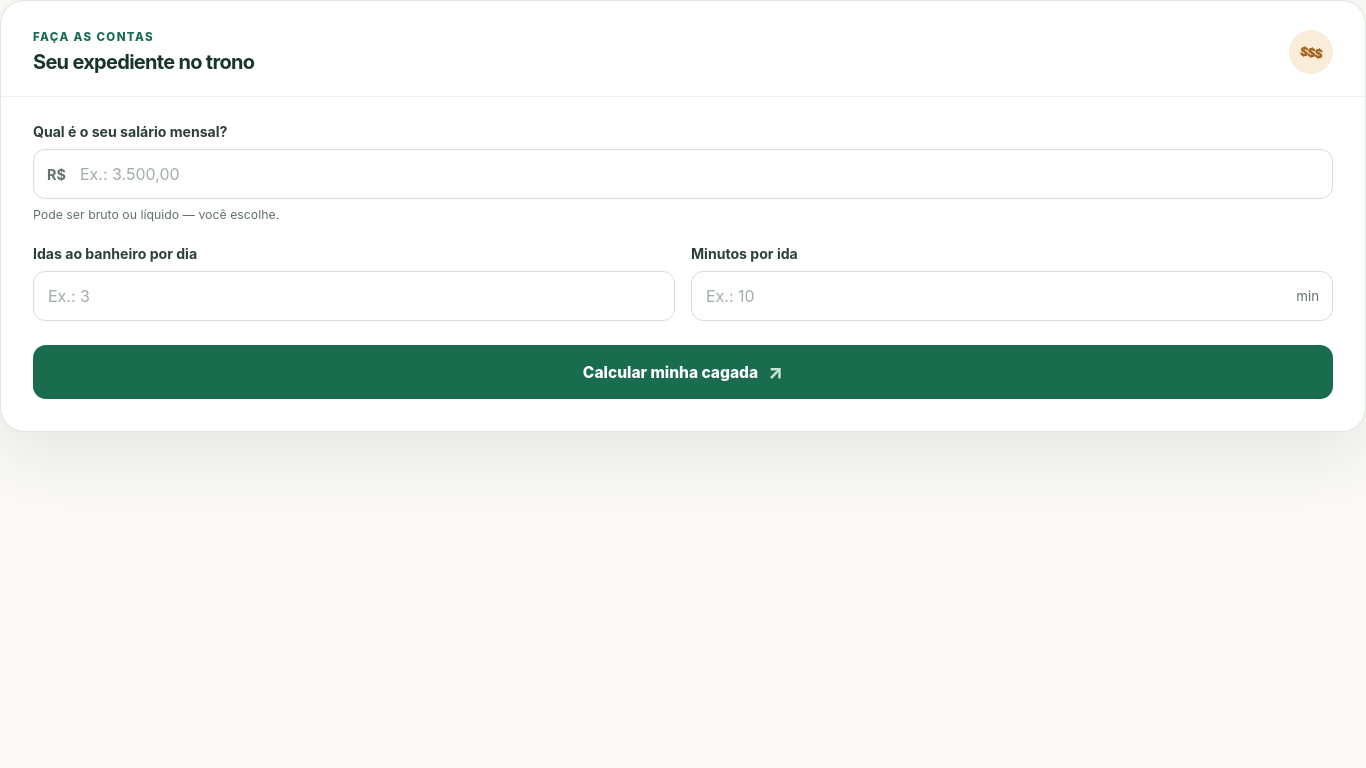
Test: Calculator › rejects fractional visits and accepts zero values
Type "0" into the number field labelled "Qual é o seu salário mensal?" at x=683, y=174, box [33,149,1333,199]
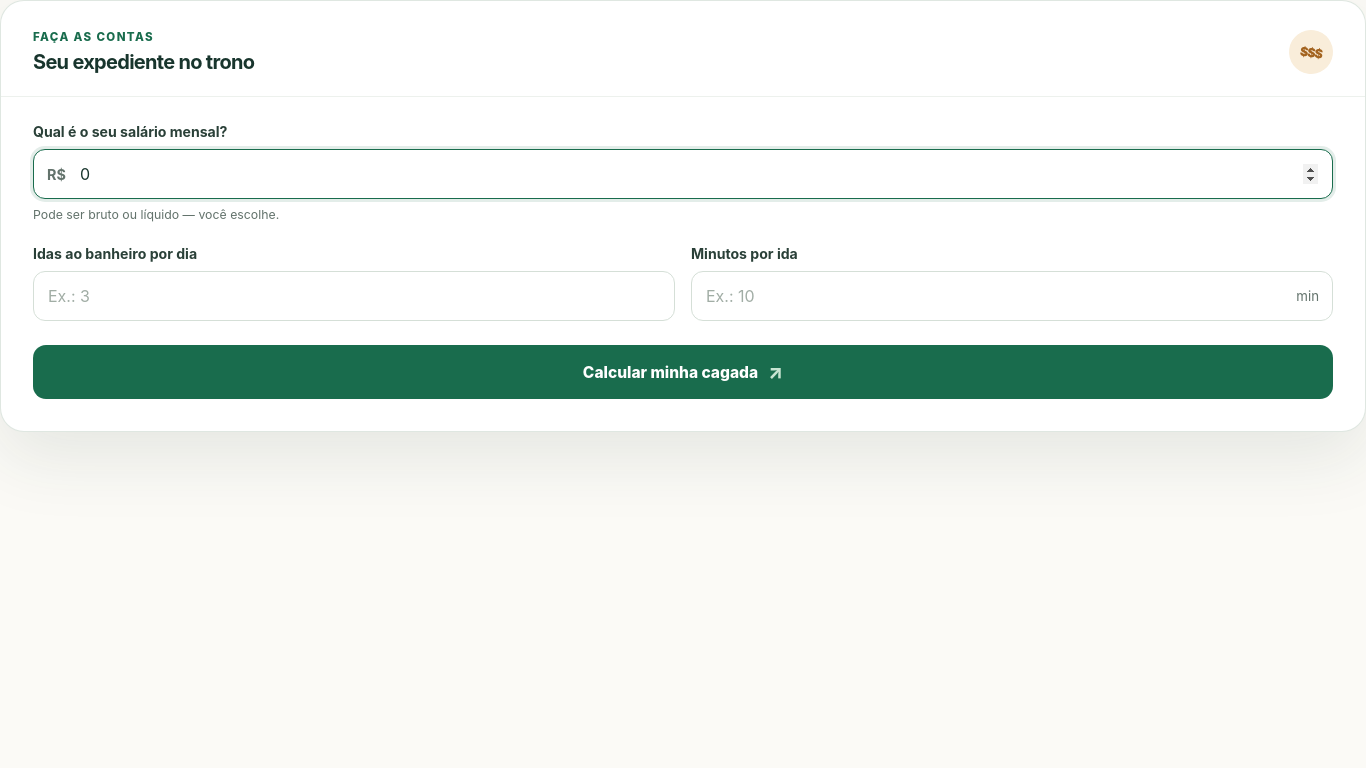
Type "1.5" into the number field labelled "Idas ao banheiro por dia" at x=354, y=296, box [33,271,675,321]
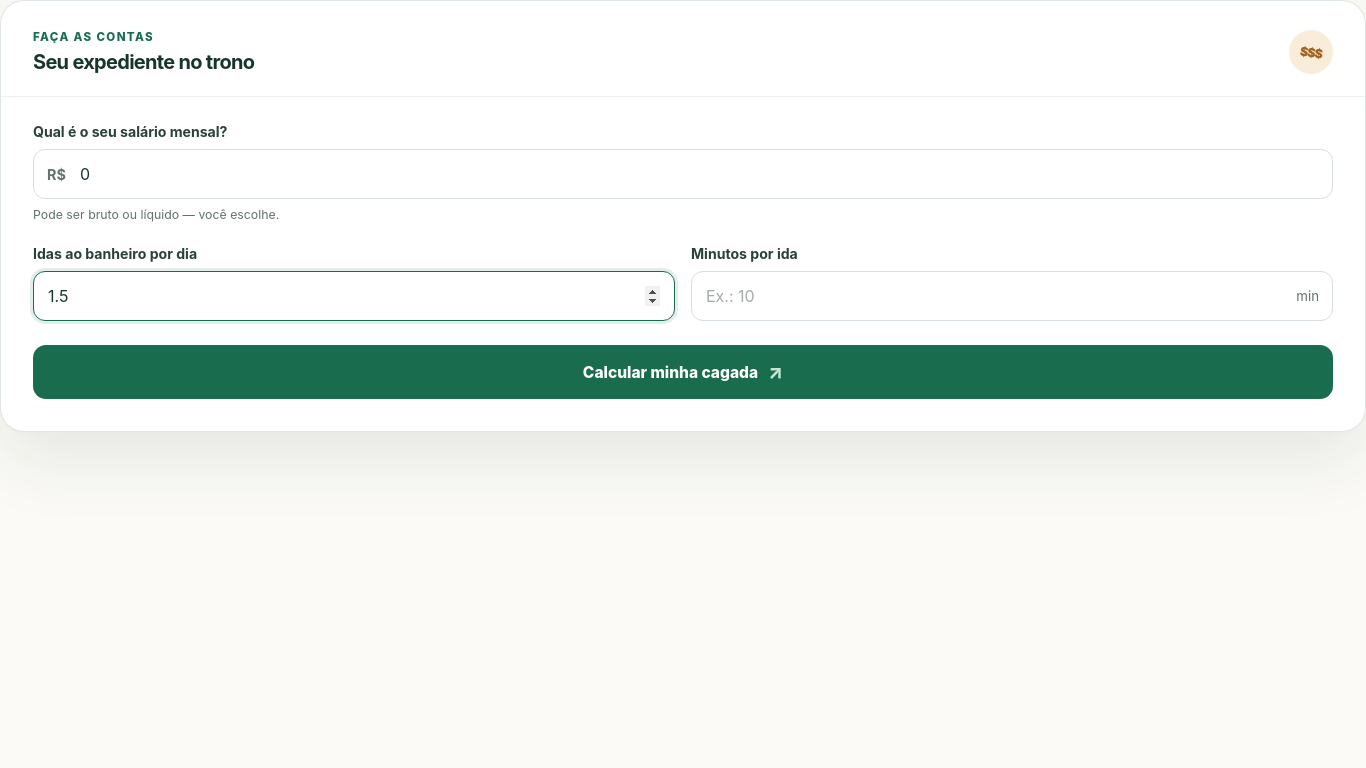
Type "0" into the number field labelled "Minutos por ida" at x=1012, y=296, box [691,271,1333,321]
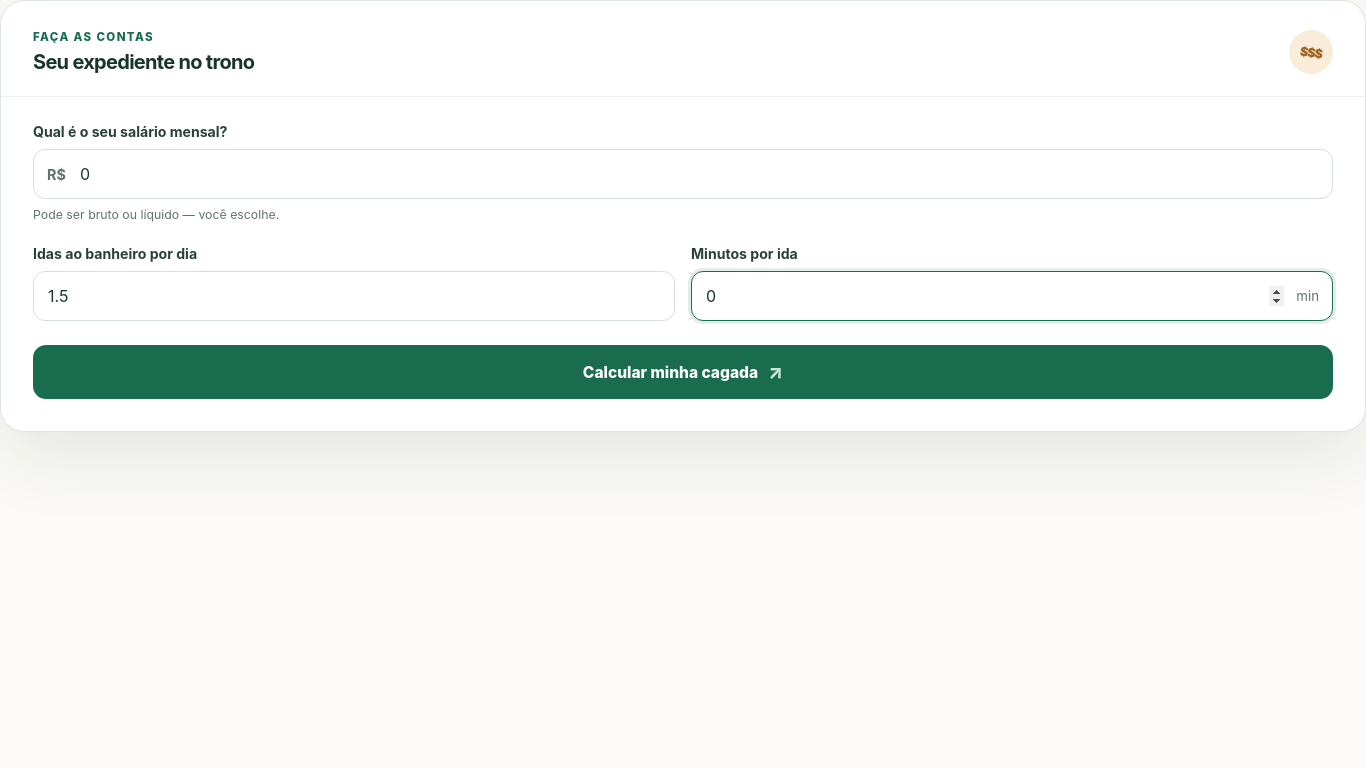
Click the button "Calcular minha cagada ↗" at x=683, y=372, box [33,345,1333,399]
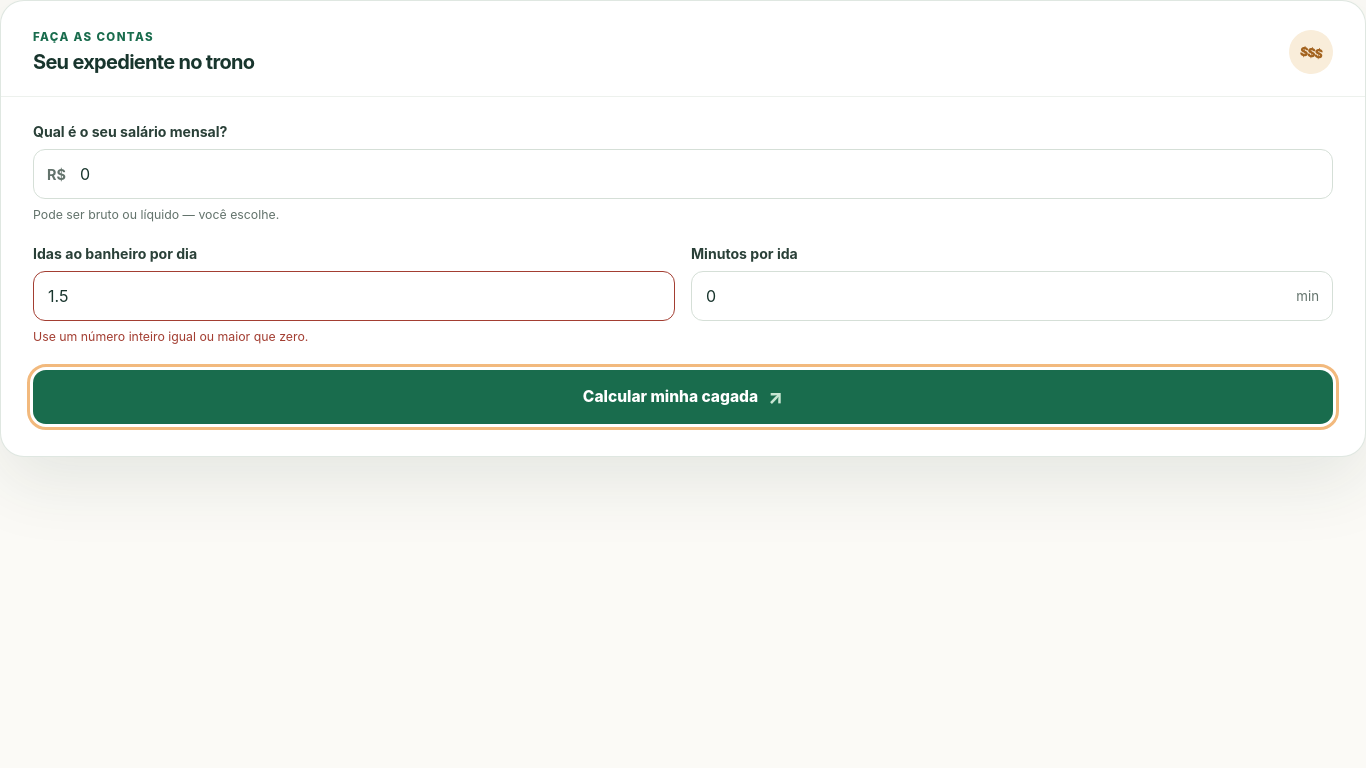
Expected: the text "Use um número inteiro igual ou maior que zero." is shown, [33,329,308,344]
Replace the text in the number field labelled "Idas ao banheiro por dia" with "0" at x=354, y=296, box [33,271,675,321]
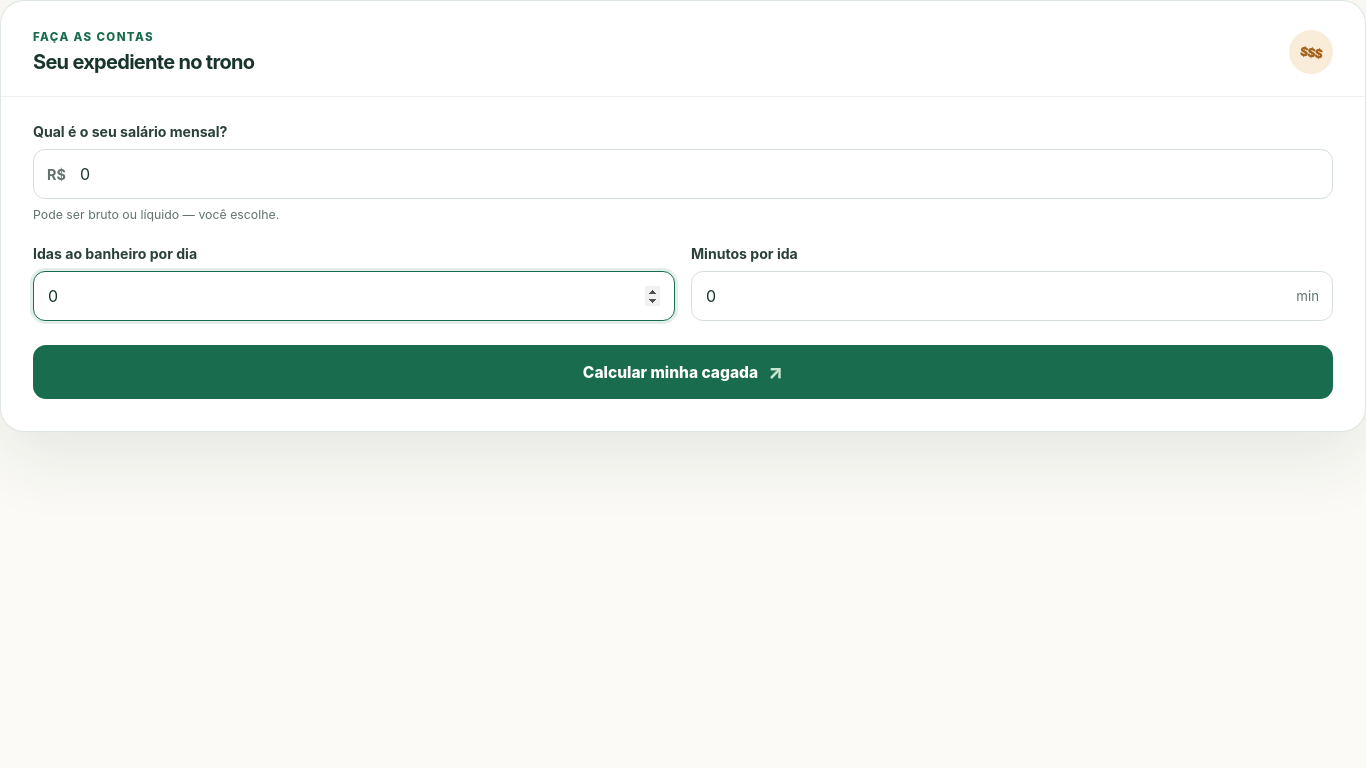
Click the button "Calcular minha cagada ↗" at x=683, y=372, box [33,345,1333,399]
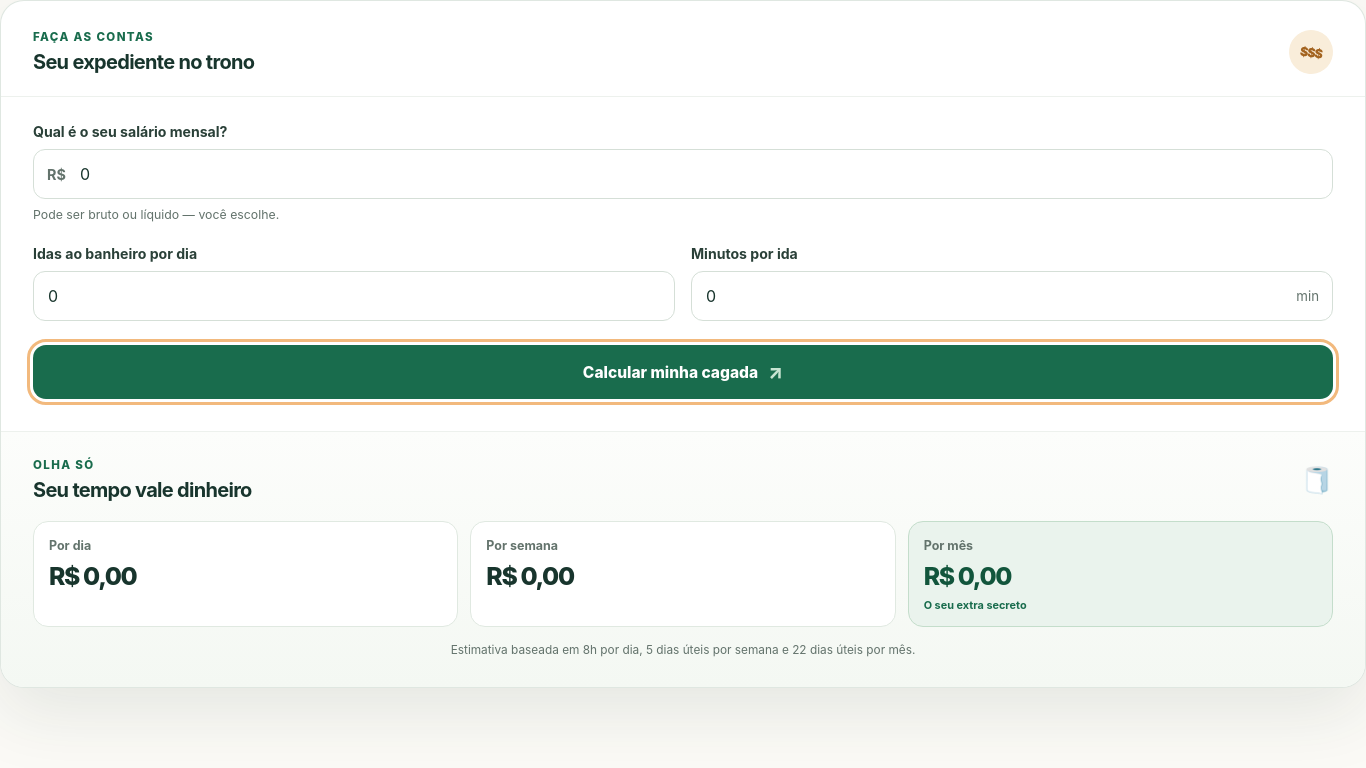
Expected: the text with test id "result-por-dia" shows "0,00", [49,562,136,592]
